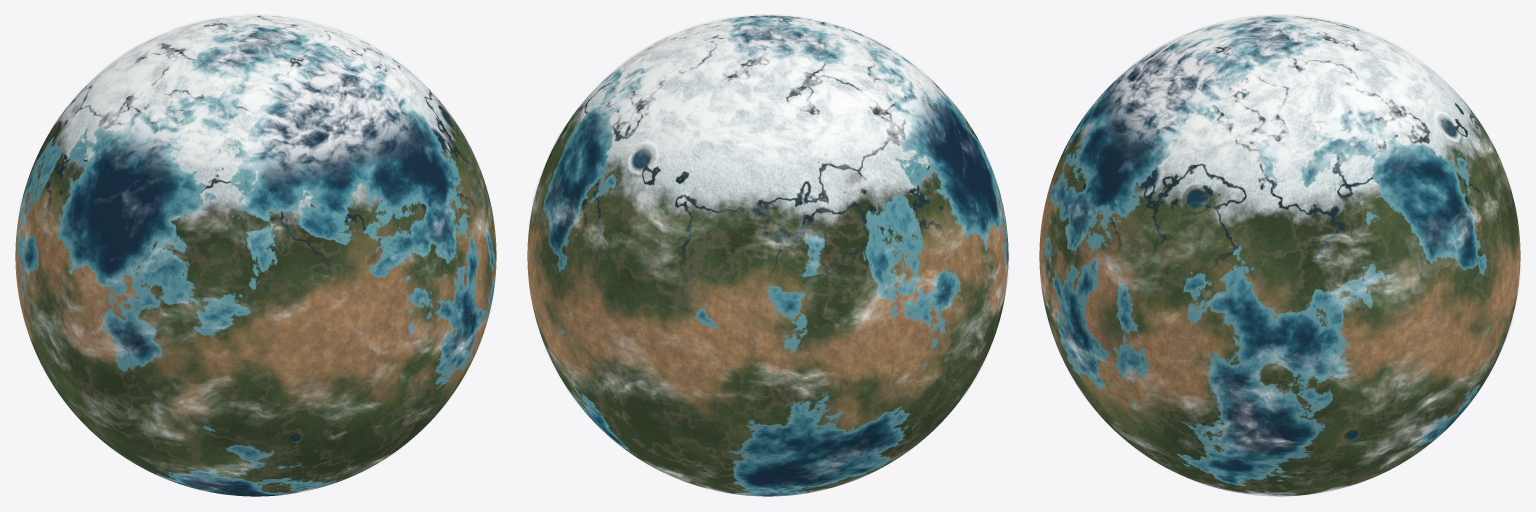
The model's file is Terra_Nova.glb.
The picture shows the model from 3 angles, left to right: view 1: azimuth 30°, elevation 25°; view 2: azimuth 150°, elevation 25°; view 3: azimuth 270°, elevation 25°; orthographic projection.
Parts seen in each view (by area): view 1: Clouds_PZ, Terra_NY_01, Terra_NX_11, Terra_PZ_00, Terra_NY_00, Terra_NY_11, Terra_NX_10, Terra_PZ_10, Terra_NY_10, Terra_NX_01, Clouds_NX, Clouds_NY (+6 smaller); view 2: Clouds_PZ, Terra_PY_11, Terra_NX_01, Terra_PZ_01, Terra_PY_10, Terra_PY_01, Terra_NX_00, Terra_PZ_11, Terra_PY_00, Clouds_PY, Terra_NX_11, Terra_PZ_00 (+5 smaller); view 3: Clouds_PZ, Terra_PX_01, Terra_PX_11, Terra_PX_00, Terra_PX_10, Terra_PZ_10, Terra_PZ_11, Clouds_PX, Terra_PY_01, Terra_NY_11, Terra_NY_10, Terra_PY_00 (+8 smaller).
Part boxes in pixels (<box>): Clouds_PZ: <box>66,14,433,200</box>; Terra_NY_01: <box>193,164,376,357</box>; Terra_NX_11: <box>47,138,204,353</box>; Terra_PZ_00: <box>109,38,340,209</box>; Terra_NY_00: <box>193,344,376,478</box>; Terra_NY_11: <box>341,151,488,343</box>; Terra_NX_10: <box>47,307,204,465</box>; Terra_PZ_10: <box>256,32,445,163</box>; Terra_NY_10: <box>341,283,488,472</box>; Terra_NX_01: <box>15,108,108,306</box>; Clouds_NX: <box>17,108,204,465</box>; Clouds_NY: <box>194,151,484,473</box>; Clouds_PZ: <box>584,14,945,207</box>; Terra_PY_11: <box>647,164,830,357</box>; Terra_NX_01: <box>819,138,976,353</box>; Terra_PZ_01: <box>683,38,914,209</box>; Terra_PY_10: <box>647,344,830,478</box>; Terra_PY_01: <box>535,151,682,343</box>; Terra_NX_00: <box>819,307,976,465</box>; Terra_PZ_11: <box>578,32,767,163</box>; Terra_PY_00: <box>535,283,682,472</box>; Clouds_PY: <box>543,153,828,476</box>; Terra_NX_11: <box>915,108,1008,306</box>; Terra_PZ_00: <box>768,21,957,137</box>; Clouds_PZ: <box>1109,14,1450,179</box>; Terra_PX_01: <box>1110,173,1279,357</box>; Terra_PX_11: <box>1280,173,1449,357</box>; Terra_PX_00: <box>1110,328,1279,481</box>; Terra_PX_10: <box>1280,328,1449,481</box>; Terra_PZ_10: <box>1110,38,1279,188</box>; Terra_PZ_11: <box>1280,38,1449,188</box>; Clouds_PX: <box>1113,173,1443,481</box>; Terra_PY_01: <box>1419,102,1520,327</box>; Terra_NY_11: <box>1039,102,1140,327</box>; Terra_NY_10: <box>1039,258,1140,440</box>; Terra_PY_00: <box>1419,258,1520,440</box>.
Bounding box in the file's own units: 2.01 × 2.01 × 2.01.
Materials: 30 (30 with a texture image).
